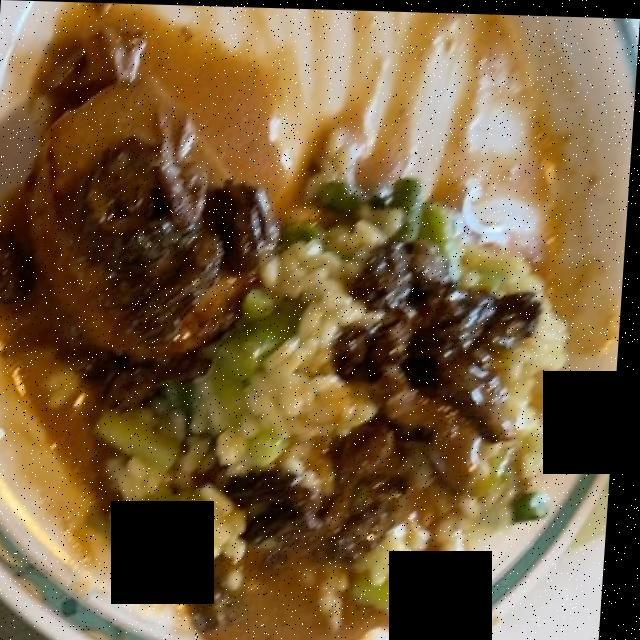risotto: (105, 207, 561, 598)
sauce: (39, 33, 498, 629)
